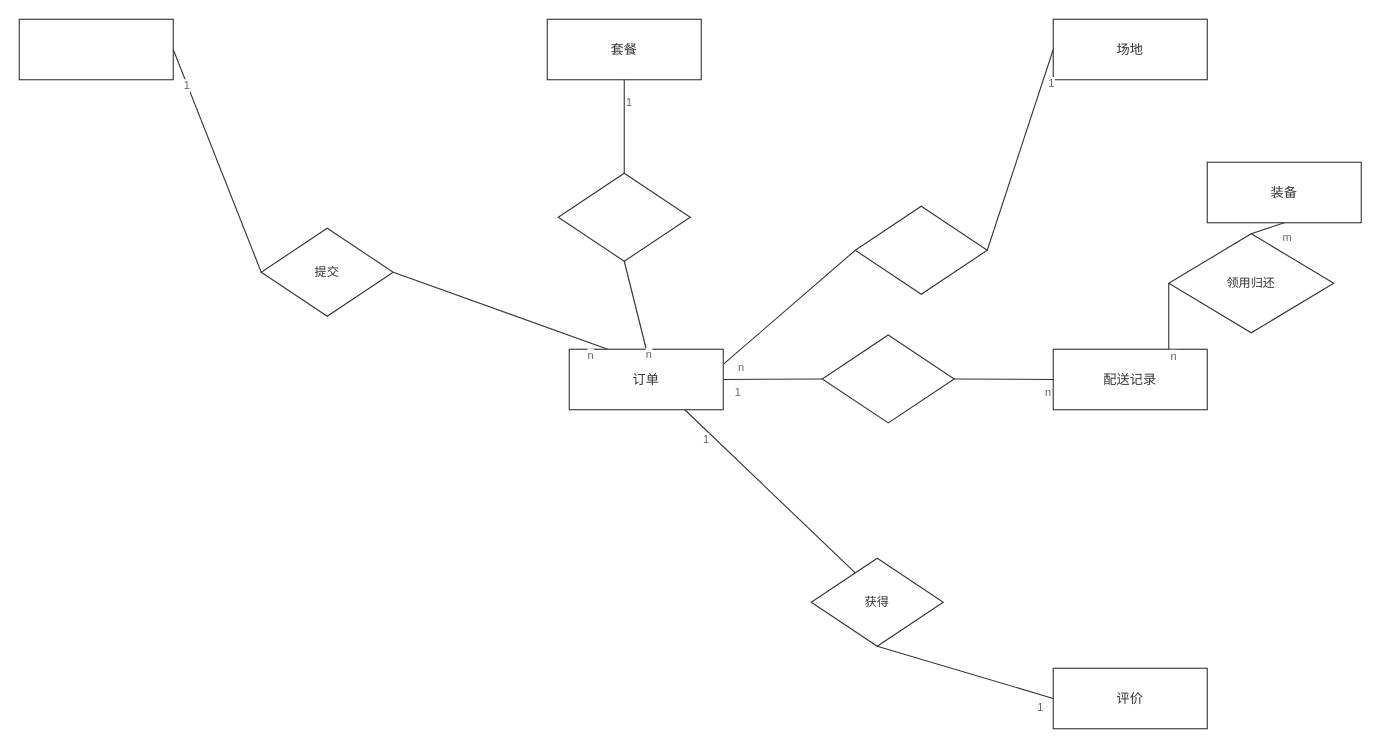
Image size: 1381x748. Some labels were removed from this diagram. Here are the shapes that lost their labels. From the top down, the box of each, then its label:
(18, 18, 173, 80): 用户
(557, 172, 690, 261): 包含
(854, 205, 987, 294): 位于
(821, 334, 954, 423): 产生
